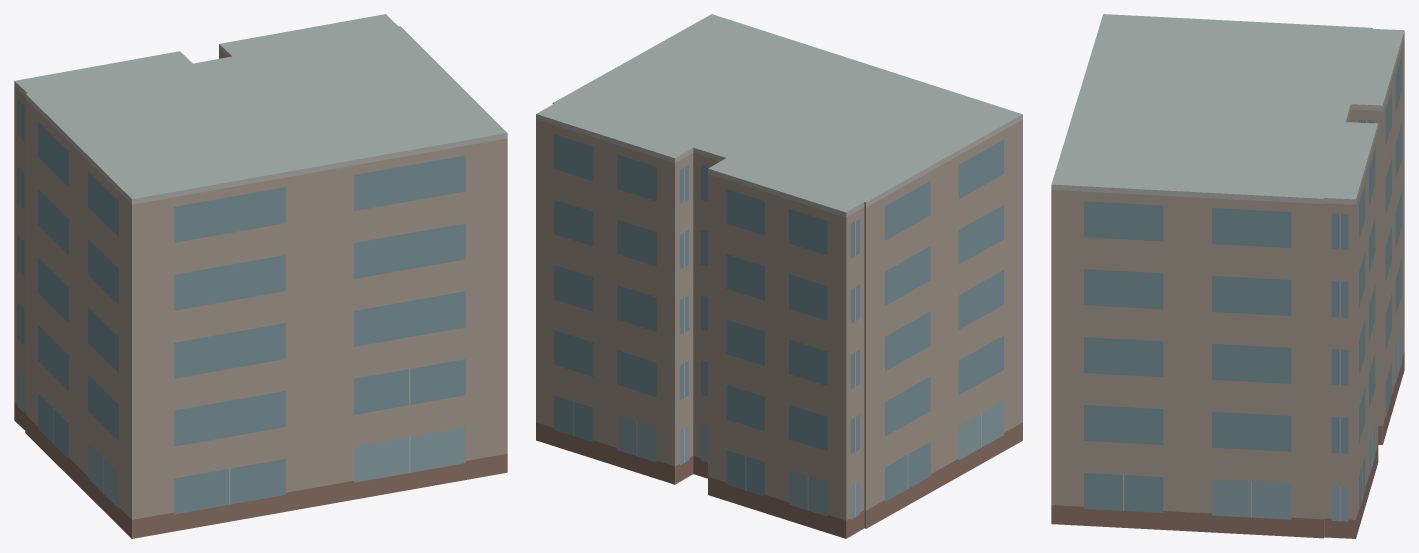
File: survey-upis-32839528.glb
3 views of the same model, side by side, from view 1: azimuth 30°, elevation 25°; view 2: azimuth 150°, elevation 25°; view 3: azimuth 270°, elevation 25° (orthographic). The views are drawn at different scales.
Visible parts, largest first — view 1: survey-upis-32839528.tmp; view 2: survey-upis-32839528.tmp; view 3: survey-upis-32839528.tmp.
Boxes of the visible parts, x1,y1,x2,y2 form: survey-upis-32839528.tmp: [14, 14, 507, 538]; survey-upis-32839528.tmp: [536, 14, 1022, 538]; survey-upis-32839528.tmp: [1051, 14, 1404, 538].
Size of the model in its own units: 18.16 by 15.5 by 14.63.
